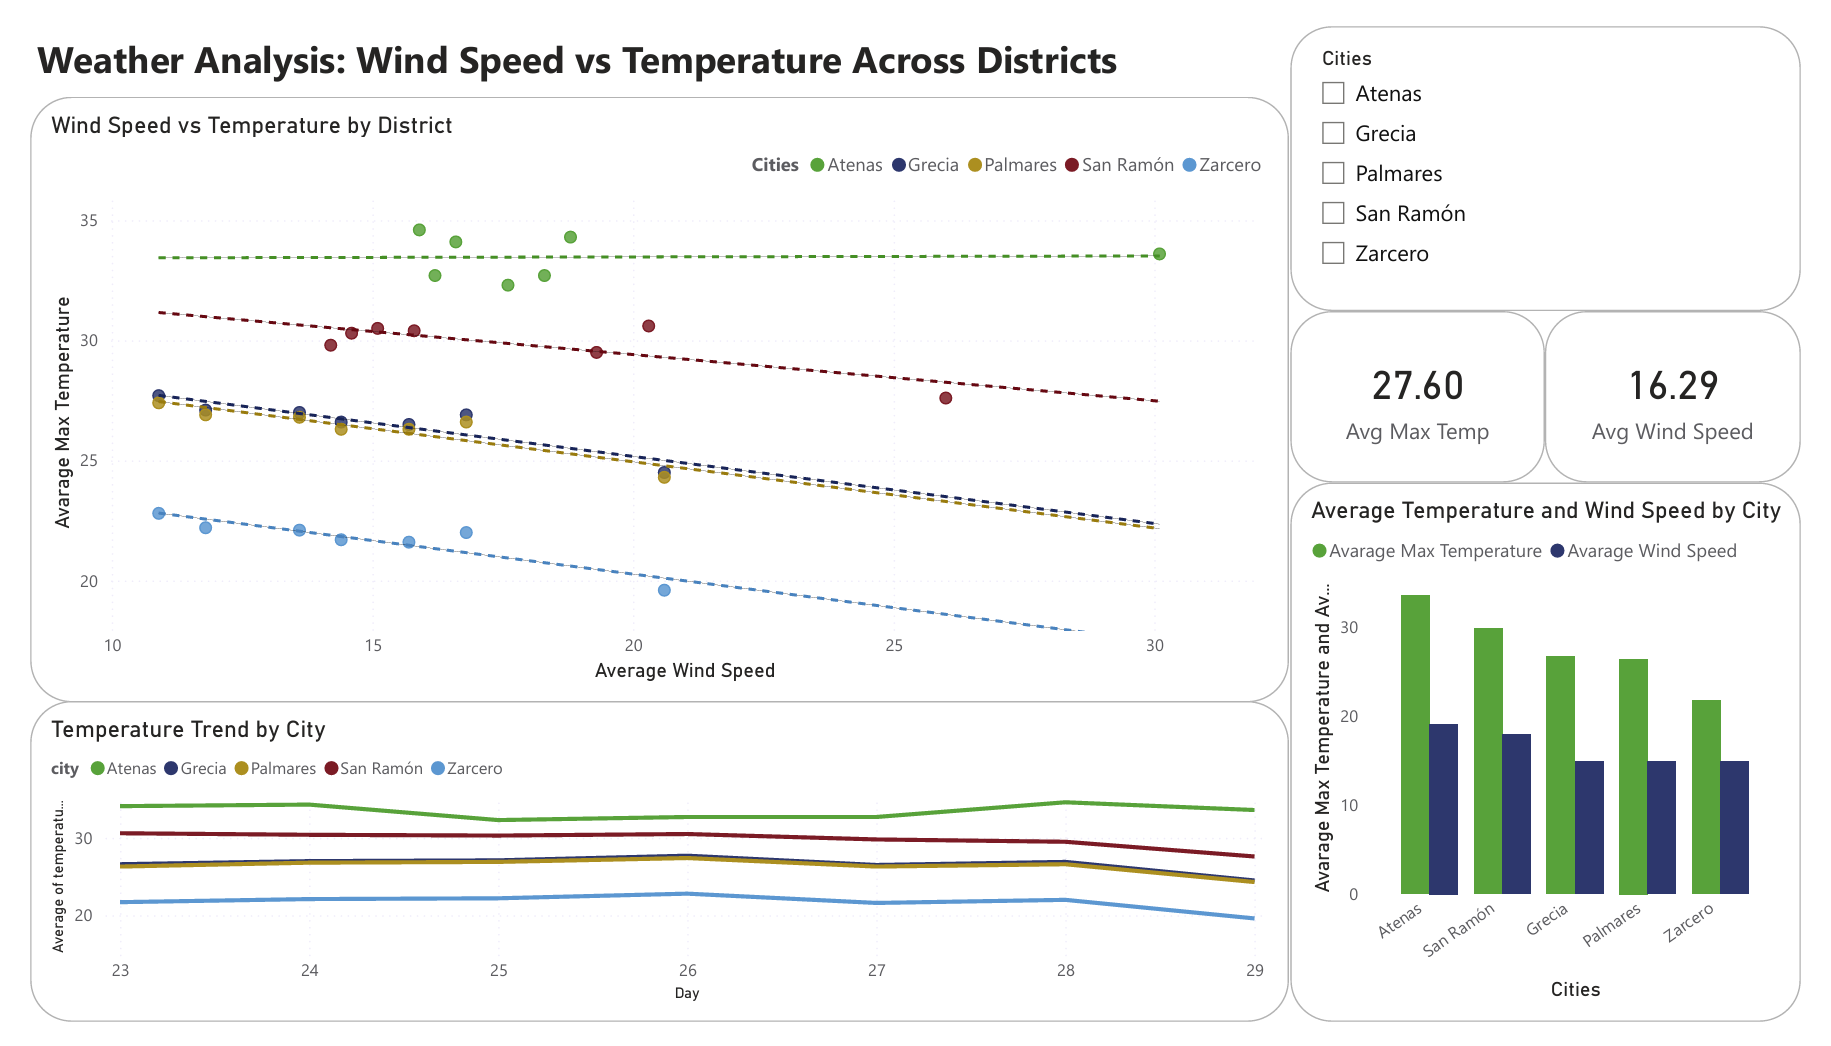

The page's visual inventory and layout, read from the dashboard file:
{"tool":"powerbi","page":{"name":"Page 1","canvas":[1280,720],"ordinal":0},"visuals":[{"type":"scatterChart","title":"Wind Speed vs Temperature by District","fields":{"Category":["weather_view.time.Variation.Date Hierarchy.Day"],"X":["Avg(weather_view.wind_speed_max)"],"Y":["Avg(weather_view.temperature_max)"],"Series":["weather_view.city"]},"box":[0,0,910.3,488.6],"z":0},{"type":"clusteredColumnChart","fields":{"Category":["weather_view.city"],"Y":["Avg(weather_view.temperature_max)","Avg(weather_view.wind_speed_max)"]},"box":[910.7,309,369,411],"z":1000},{"type":"lineChart","fields":{"Category":["weather_view.time.Variation.Date Hierarchy.Day"],"Y":["Avg(weather_view.temperature_max)"],"Series":["weather_view.city"]},"box":[0,488.3,910.4,231.5],"z":2000},{"type":"card","fields":{"Values":["Avg(weather_view.temperature_max)"]},"box":[909.9,185.4,184.5,123.6],"z":3000},{"type":"card","fields":{"Values":["Avg(weather_view.wind_speed_max)"]},"box":[1095.2,185.4,184.5,123.6],"z":4000},{"type":"slicer","fields":{"Values":["weather_view.city"]},"box":[910.7,0,369,185.4],"z":5000}]}

Visuals, with their boxes in screenshot pixels (x1, y1, x2, y2), scaled from the page's 1280x720 canvas onto the 1831x1046 screenshot:
"Wind Speed vs Temperature by District" scatterChart: 0, 0, 1302, 710
clusteredColumnChart - weather_view.city x Avg(weather_view.temperature_max): 1303, 449, 1830, 1045
lineChart - weather_view.time.Variation.Date Hierarchy.Day x Avg(weather_view.temperature_max): 0, 709, 1302, 1045
card - Avg(weather_view.temperature_max): 1302, 269, 1566, 449
card - Avg(weather_view.wind_speed_max): 1567, 269, 1830, 449
slicer - weather_view.city: 1303, 0, 1830, 269
